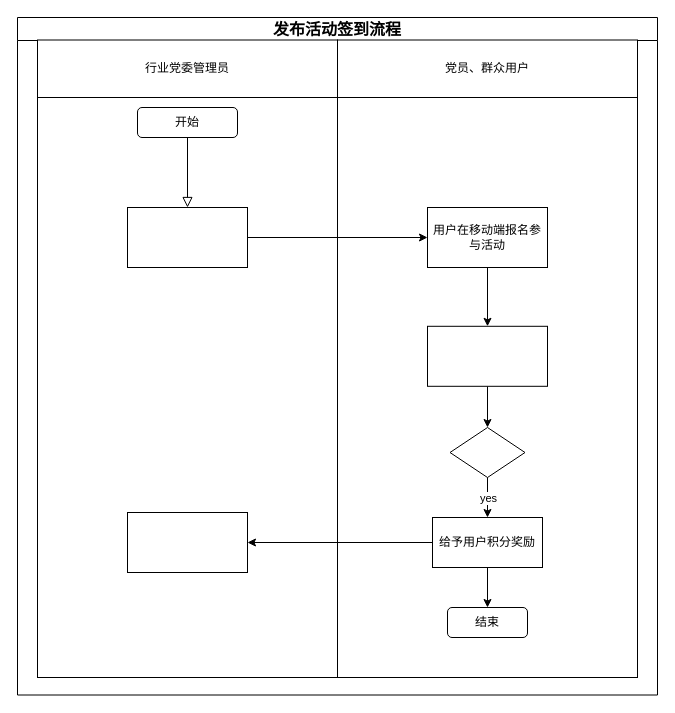
This 675x713 diagram has some shape labels left out. The shapes that lost their labels are listed below. From the top down, each one's centre as x and y in pixels, then its label:
[187,237]: 选择活动类型，编辑活动内容，设置开始时间等信息发布活动
[487,355]: 活动开始后用户签到，领取积分
[487,452]: 签到成功
[187,542]: 管理员可查看报名人数、实际签到人数信息
